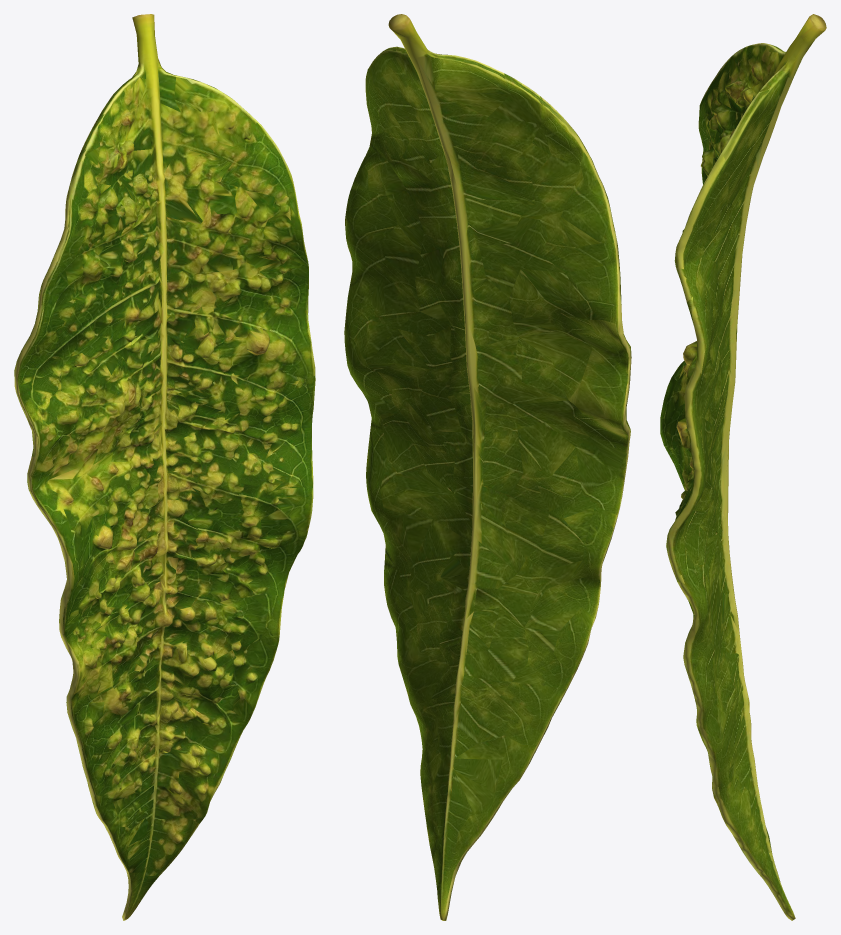
File: mango_gall_midge.glb
3 views of the same model, side by side, from view 1: azimuth 30°, elevation 25°; view 2: azimuth 150°, elevation 25°; view 3: azimuth 270°, elevation 25° (orthographic). The views are drawn at different scales.
Parts seen in each view (by area): view 1: mango_gall_midge; view 2: mango_gall_midge; view 3: mango_gall_midge.
Boxes of the visible parts, x1=… form: mango_gall_midge: x1=14, y1=14, x2=315, y2=920; mango_gall_midge: x1=344, y1=14, x2=631, y2=920; mango_gall_midge: x1=660, y1=14, x2=826, y2=920.
Bounding box in the file's own units: 0.3327 × 0.9997 × 0.1641.
1 material, 1 textured.
